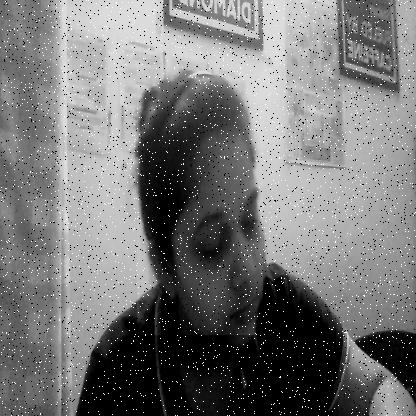Distracted: (137, 65, 263, 335)
